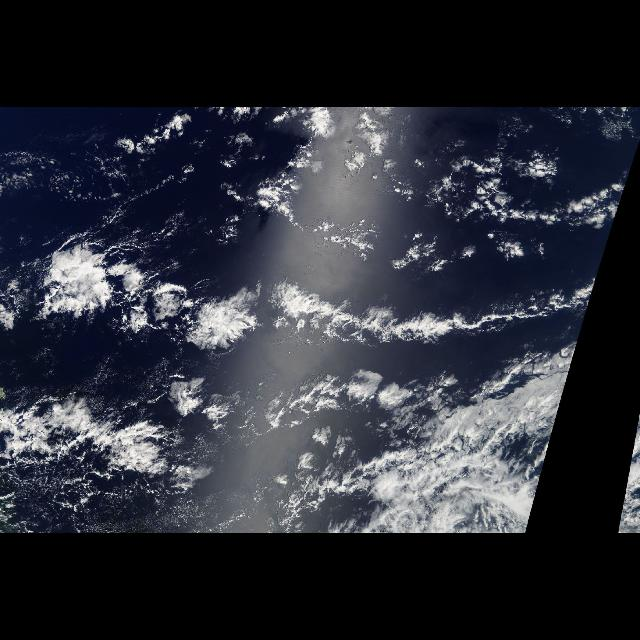Fish: (10, 266, 602, 368)
Flower: (29, 228, 263, 370)
Gravel: (4, 420, 158, 520)
